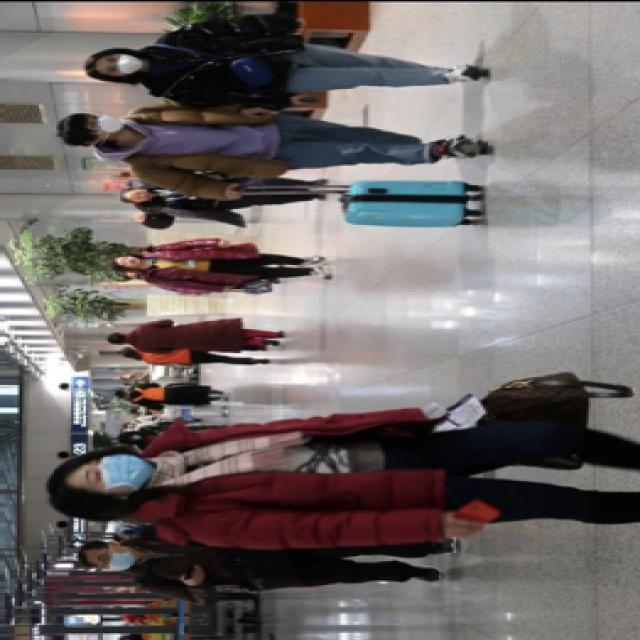mask: (76, 453, 152, 493), (90, 547, 132, 573), (96, 53, 140, 77), (84, 114, 122, 132)
no_mask: (123, 189, 147, 205), (115, 254, 135, 268)
